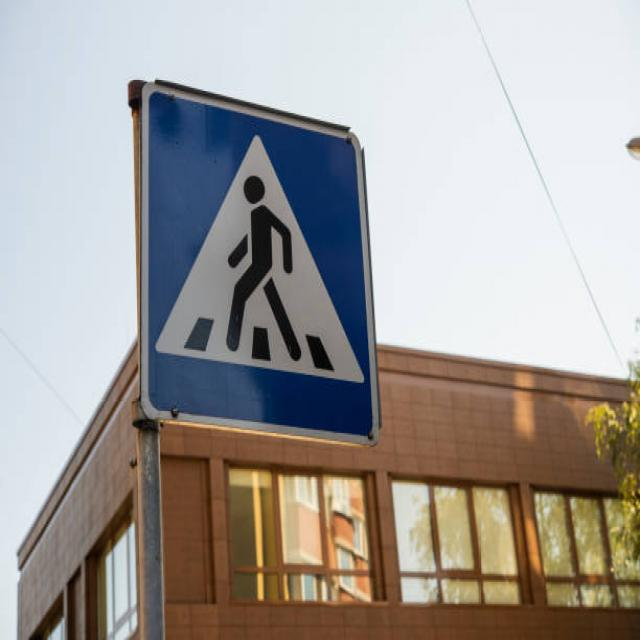crosswalk: (130, 66, 385, 452)
